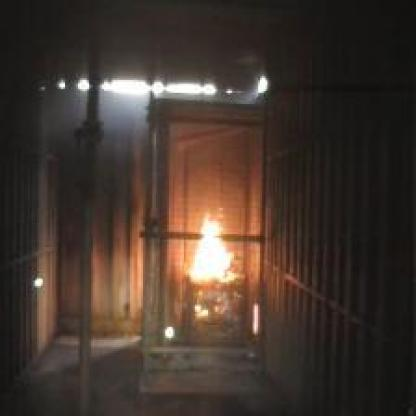fire: (185, 213, 244, 330)
other: (47, 75, 272, 97), (158, 320, 177, 340), (251, 299, 260, 337), (26, 273, 47, 289)
